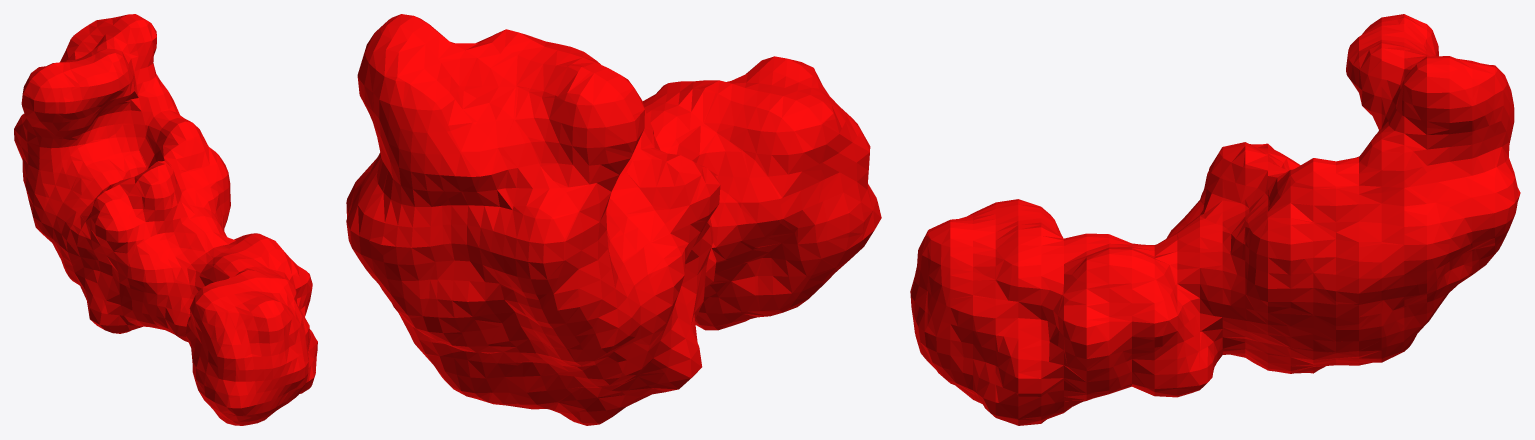
File: gltX_coarse.dae
3 renders of one model, left to right at view 1: azimuth 30°, elevation 25°; view 2: azimuth 150°, elevation 25°; view 3: azimuth 270°, elevation 25°, orthographic. The views are drawn at different scales.
Parts seen in each view (by area): view 1: gltX; view 2: gltX; view 3: gltX.
Boxes of the visible parts, x1=… form: gltX: x1=14, y1=14, x2=317, y2=425; gltX: x1=346, y1=14, x2=881, y2=425; gltX: x1=910, y1=14, x2=1520, y2=425.
Bounding box in the file's own units: 46.96 × 72.98 × 104.
